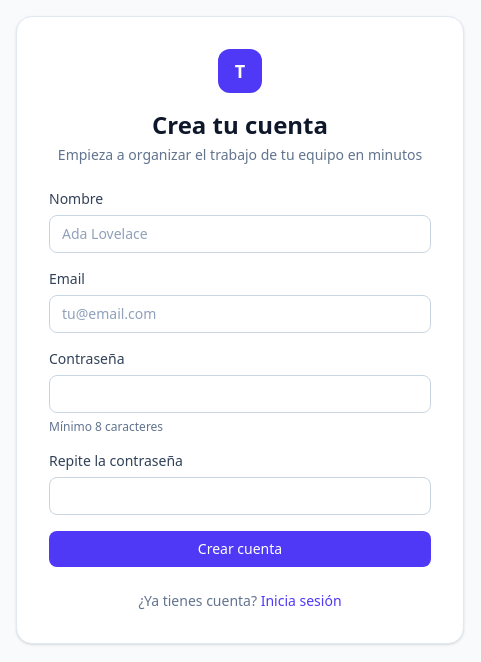
Test: RegisterPage › valida la longitud mínima de la contraseña
The width and height of the screenshot is (481, 662).
Type "Ana" into the field labelled "Nombre" at (240, 234), box [49,215,431,253]
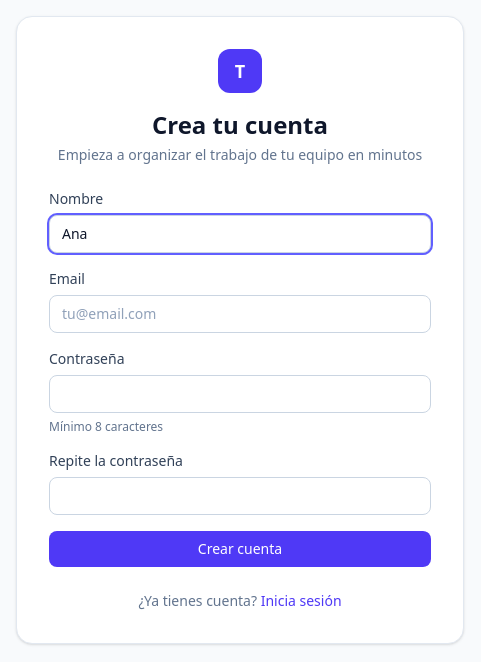
Type "ana@ejemplo.com" into the field labelled "Email" at (240, 314), box [49,295,431,333]
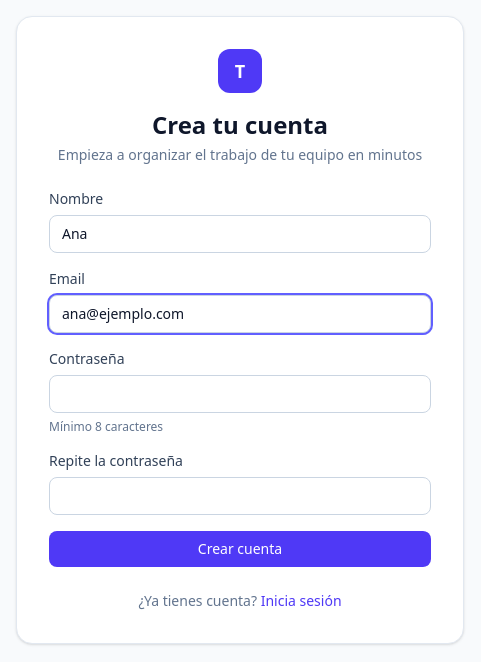
Type "corta" into the password field labelled "Contraseña" at (240, 394), box [49,375,431,413]
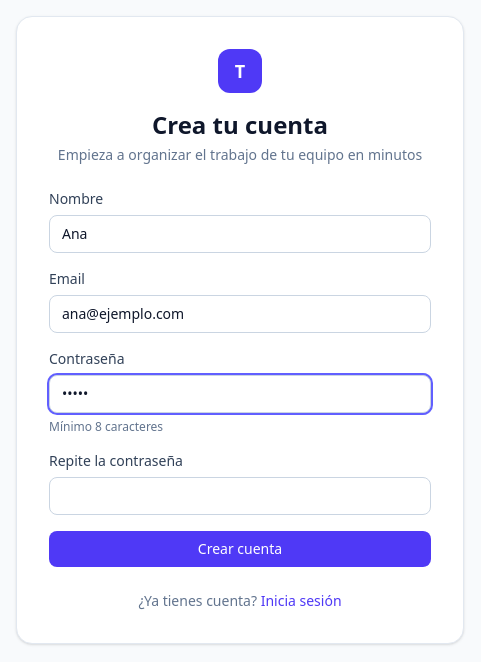
Type "corta" into the password field labelled "Repite la contraseña" at (240, 496), box [49,477,431,515]
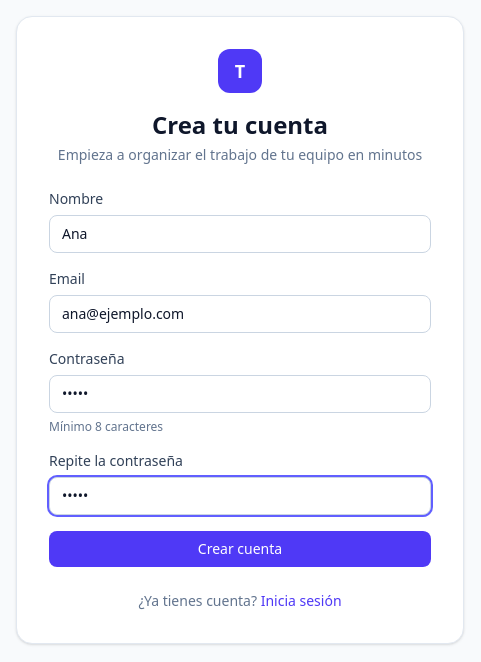
Click the button "Crear cuenta" at (240, 549), box [49,531,431,567]
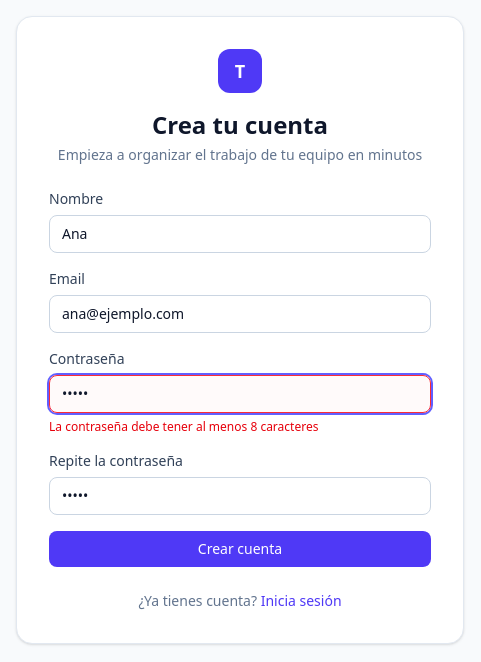
Check: the text "La contraseña debe tener al menos 8 caracteres" is shown, box [49,418,318,435]
